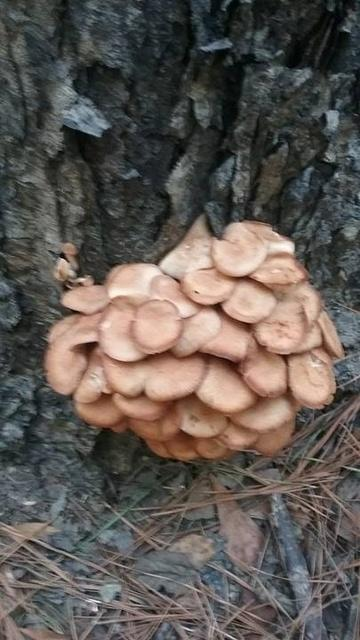edible_mushroom: (42, 212, 344, 463)
